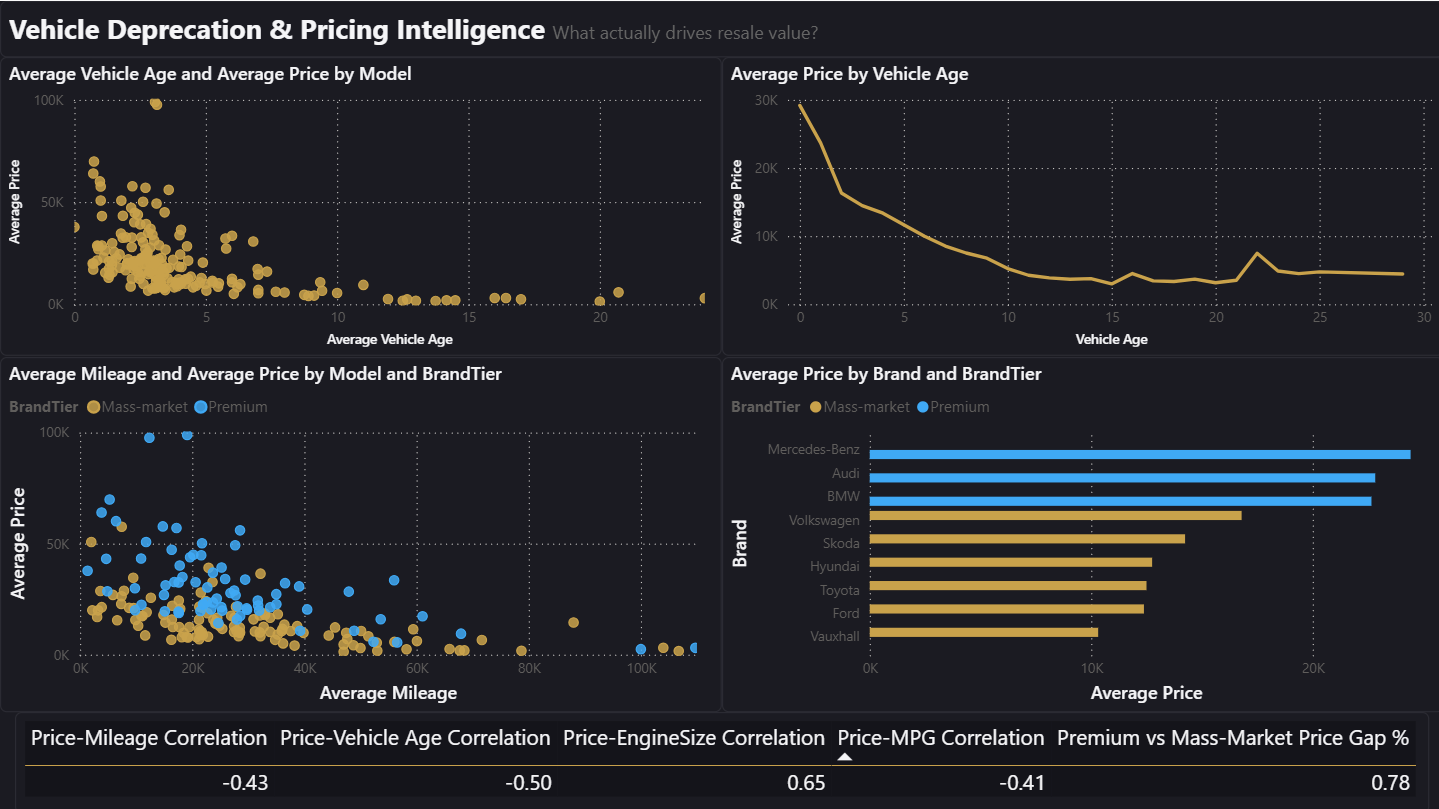

The dashboard page shown, as its layout file describes it:
{"tool":"powerbi","page":{"name":"Page 2","canvas":[1280,720],"ordinal":1},"visuals":[{"type":"scatterChart","fields":{"X":["Measure_s.Average Vehicle Age"],"Category":["Fact_Cars.model"],"Y":["Measure_s.Average Price"]},"box":[0,50,640,265.3],"z":0},{"type":"lineChart","fields":{"Category":["Fact_Cars.Vehicle Age"],"Y":["Measure_s.Average Price"]},"box":[640,50,640,265.3],"z":1000},{"type":"scatterChart","fields":{"X":["Measure_s.Average Mileage"],"Y":["Measure_s.Average Price"],"Series":["Fact_Cars.BrandTier"],"Category":["Fact_Cars.model"]},"box":[0,315.3,640,315.3],"z":2000},{"type":"clusteredBarChart","fields":{"Y":["Measure_s.Average Price"],"Category":["Fact_Cars.Brand"],"Series":["Fact_Cars.BrandTier"]},"box":[640,315.3,640,315.3],"z":3000},{"type":"tableEx","fields":{"Values":["Measure_s.Price-Mileage Correlation","Measure_s.Price-Vehicle Age Correlation","Measure_s.Price-EngineSize Correlation","Measure_s.Price-MPG Correlation","Measure_s.Premium vs Mass-Market Price Gap %"]},"box":[13.2,630.6,1253.6,89.7],"z":4000},{"type":"textbox","box":[0,0,1280,49.6],"z":5000}]}

Visuals, with their boxes in screenshot pixels (x1, y1, x2, y2), scaled from the page's 1280x720 canvas onto the 1439x809 screenshot:
scatterChart - Measure_s.Average Vehicle Age x Fact_Cars.model: 0 56 720 354
lineChart - Fact_Cars.Vehicle Age x Measure_s.Average Price: 720 56 1438 354
scatterChart - Measure_s.Average Mileage x Measure_s.Average Price: 0 354 720 709
clusteredBarChart - Measure_s.Average Price x Fact_Cars.Brand: 720 354 1438 709
tableEx - Measure_s.Price-Mileage Correlation x Measure_s.Price-Vehicle Age Correlation: 15 709 1424 808
textbox: 0 0 1438 56
